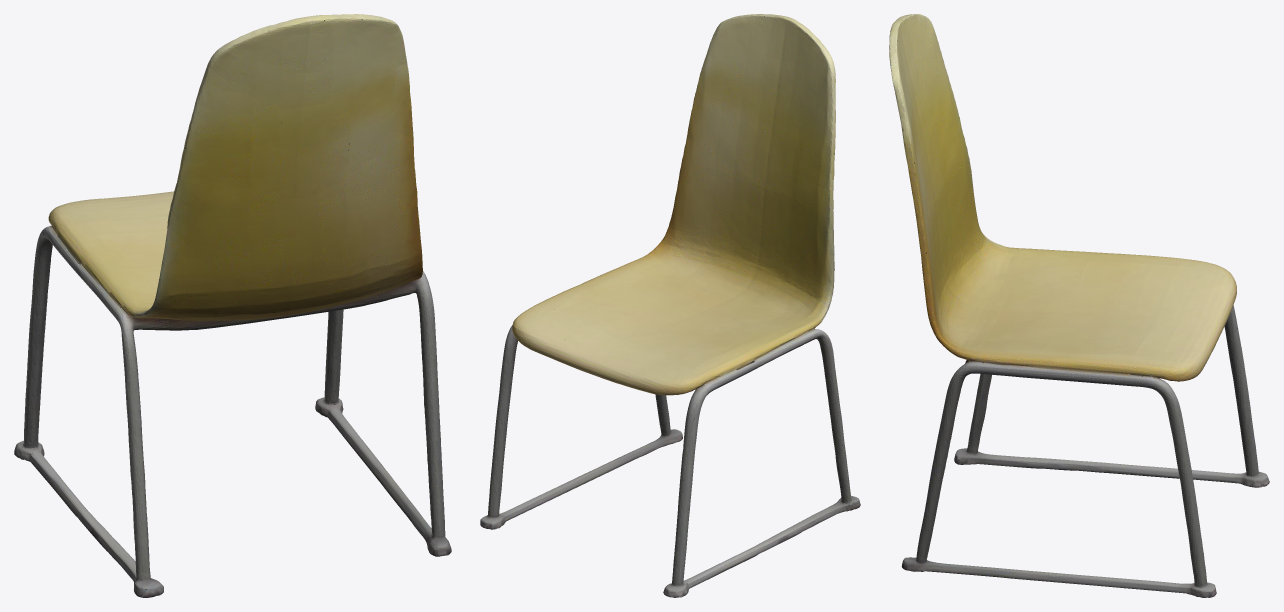
Rendered from light-colored_wooden_chair_partially_visible_behind_foreground_table_(left)_000.glb.
3 views of the same model, side by side, from view 1: azimuth 30°, elevation 25°; view 2: azimuth 150°, elevation 25°; view 3: azimuth 270°, elevation 25° (orthographic). The views are drawn at different scales.
Parts seen in each view (by area): view 1: phase2_final_light-colored_wooden_chair_partially_visible_be; view 2: phase2_final_light-colored_wooden_chair_partially_visible_be; view 3: phase2_final_light-colored_wooden_chair_partially_visible_be.
Part boxes in pixels (box(x1,y1,x2,y2)): phase2_final_light-colored_wooden_chair_partially_visible_be: box(14, 14, 451, 597); phase2_final_light-colored_wooden_chair_partially_visible_be: box(480, 14, 860, 597); phase2_final_light-colored_wooden_chair_partially_visible_be: box(889, 14, 1269, 597).
Size of the model in its own units: 0.1512 by 0.2391 by 0.1698.
Materials: 1 (1 with a texture image).
